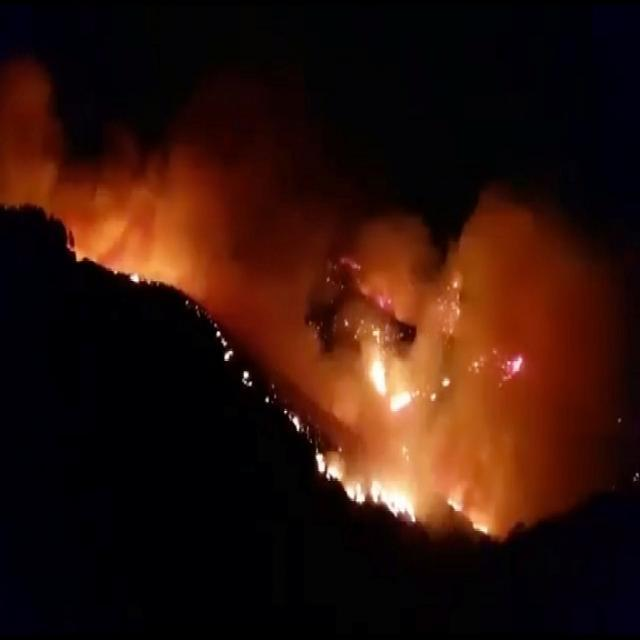Fire: (314, 451, 414, 523), (367, 326, 413, 414), (469, 511, 492, 536), (505, 352, 524, 378), (447, 491, 462, 515)
